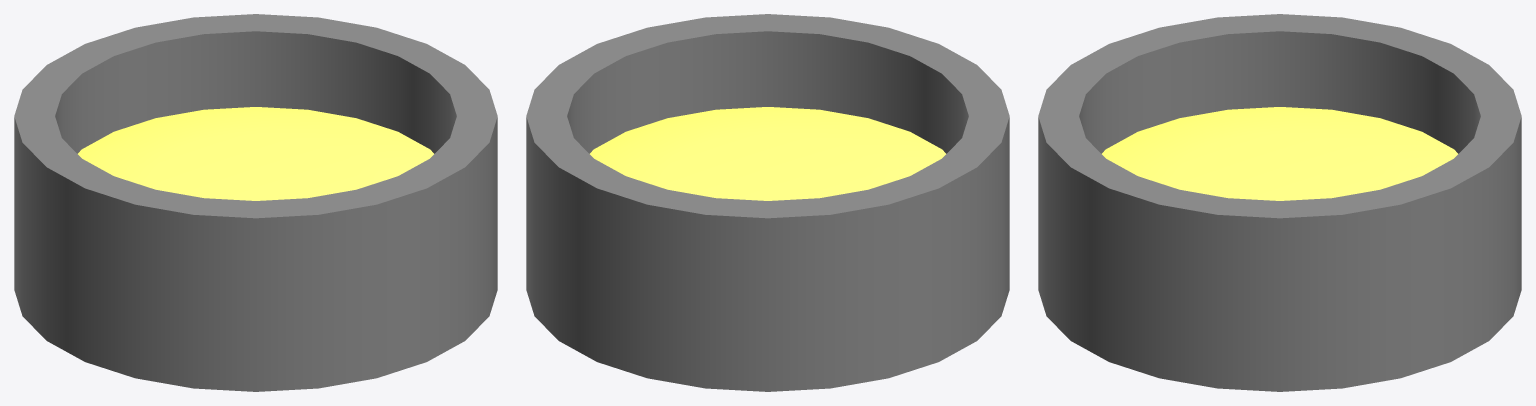
File: Light1.FBX
3 views of the same model, side by side, from view 1: azimuth 30°, elevation 25°; view 2: azimuth 150°, elevation 25°; view 3: azimuth 270°, elevation 25° (orthographic).
Parts seen in each view (by area): view 1: Light; view 2: Light; view 3: Light.
Boxes of the visible parts, <box> form: Light: <box>14,14,497,391</box>; Light: <box>526,14,1009,391</box>; Light: <box>1038,14,1521,391</box>.
Bounding box in the file's own units: 37.45 × 14.84 × 37.45.
